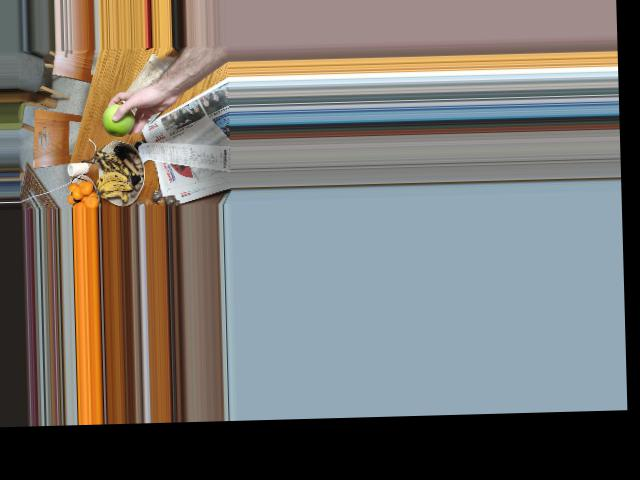apple: (100, 107, 138, 136)
